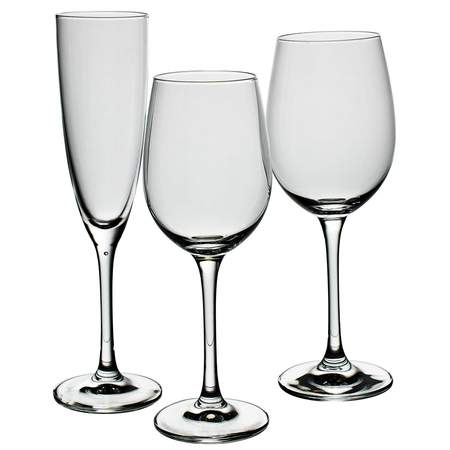Nonrec_Glass: (266, 27, 405, 409), (45, 3, 168, 419), (151, 59, 279, 446)
